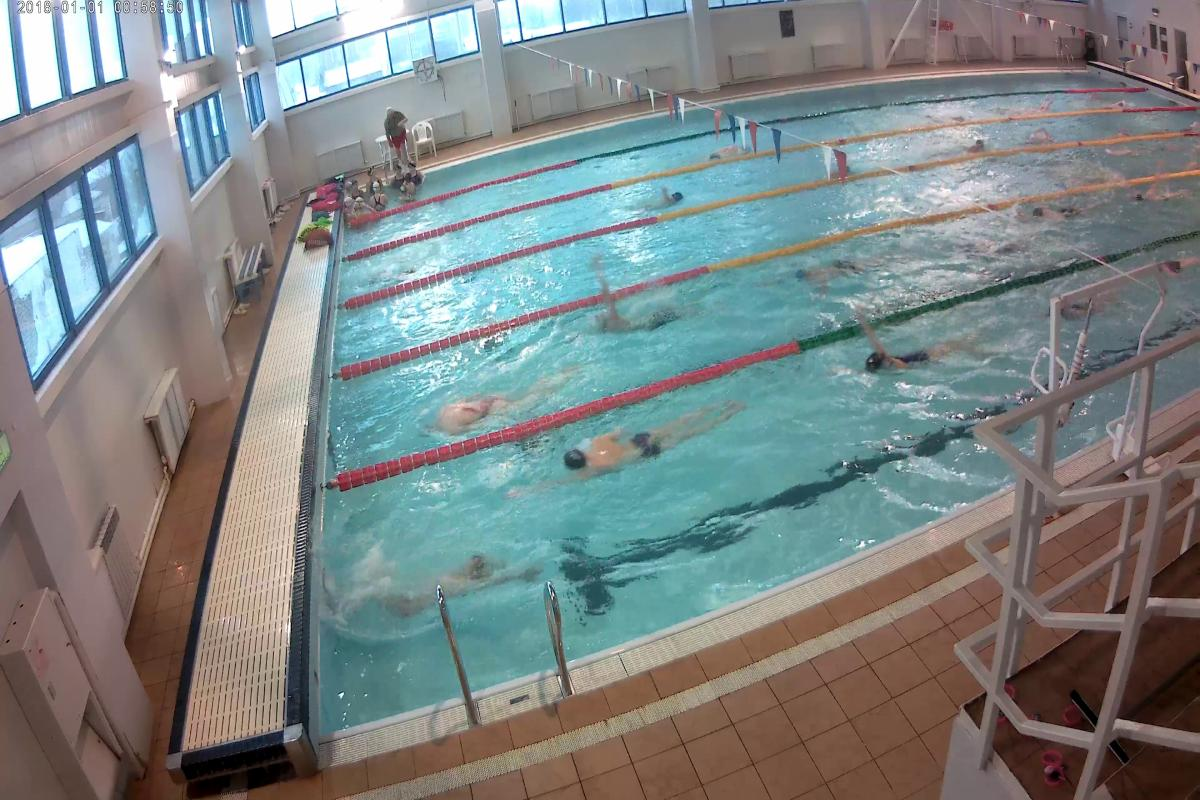swimmer: (556, 408, 722, 476), (418, 376, 562, 440), (341, 552, 497, 605), (866, 330, 994, 384), (776, 241, 920, 288), (605, 302, 701, 336), (1116, 184, 1192, 216), (979, 233, 1039, 263), (1028, 197, 1104, 219)
